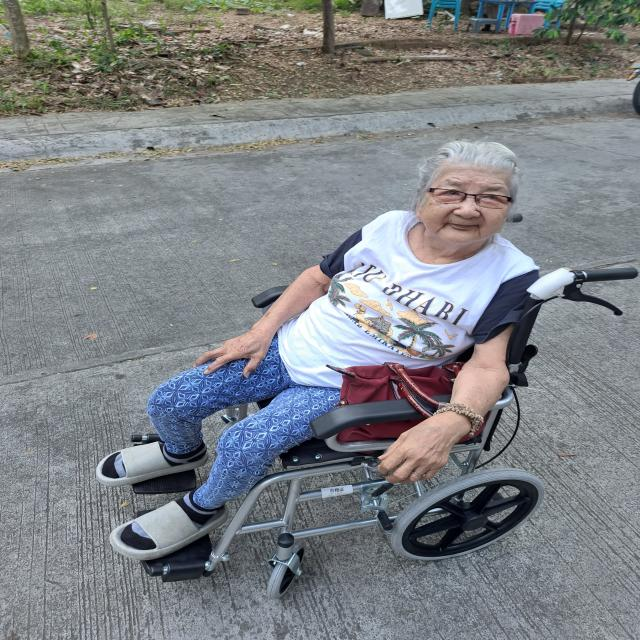wheelchairs: (98, 211, 640, 604)
